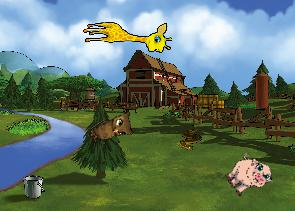giraffe: (82, 22, 172, 53)
owl: (86, 106, 140, 155)
pig: (220, 148, 276, 203)
